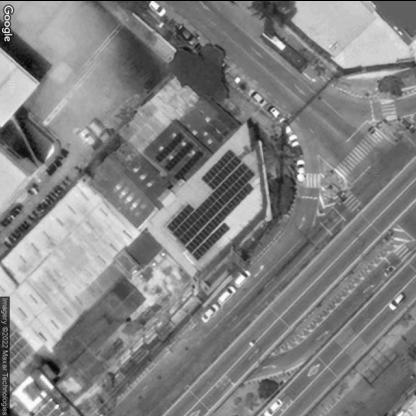solar-pv-panel: (173, 163, 254, 246), (185, 181, 254, 254), (201, 147, 241, 190), (192, 222, 229, 260), (172, 150, 202, 185), (164, 141, 193, 172), (154, 134, 183, 165), (165, 204, 193, 235)
